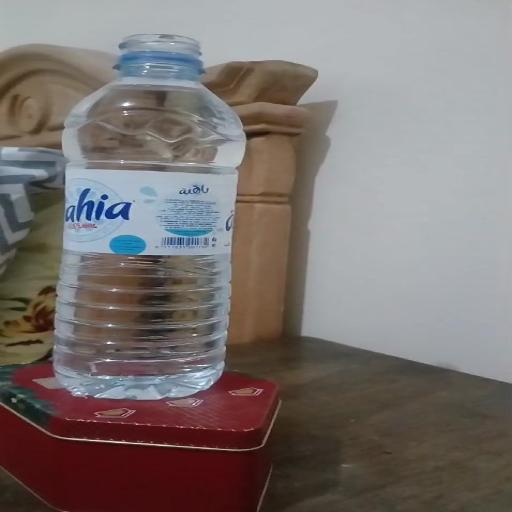bouteille non conformite: (37, 21, 261, 408), (100, 32, 227, 78)
